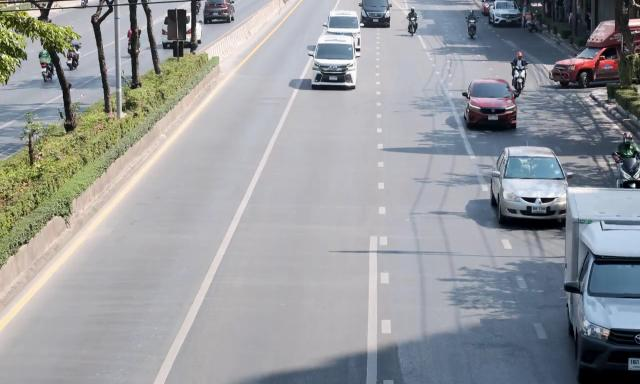caminhaog: (615, 158, 640, 190)
carro: (489, 146, 572, 223), (462, 78, 519, 132), (309, 34, 358, 88), (160, 11, 202, 50), (323, 10, 362, 49), (359, 0, 392, 28), (489, 0, 521, 27), (202, 0, 236, 23), (482, 0, 493, 15)
moto: (511, 60, 528, 97), (524, 15, 543, 37), (40, 59, 54, 84), (66, 47, 81, 70), (465, 16, 479, 40), (127, 38, 142, 57), (405, 15, 419, 35)
van: (563, 186, 639, 384), (547, 19, 640, 89)
